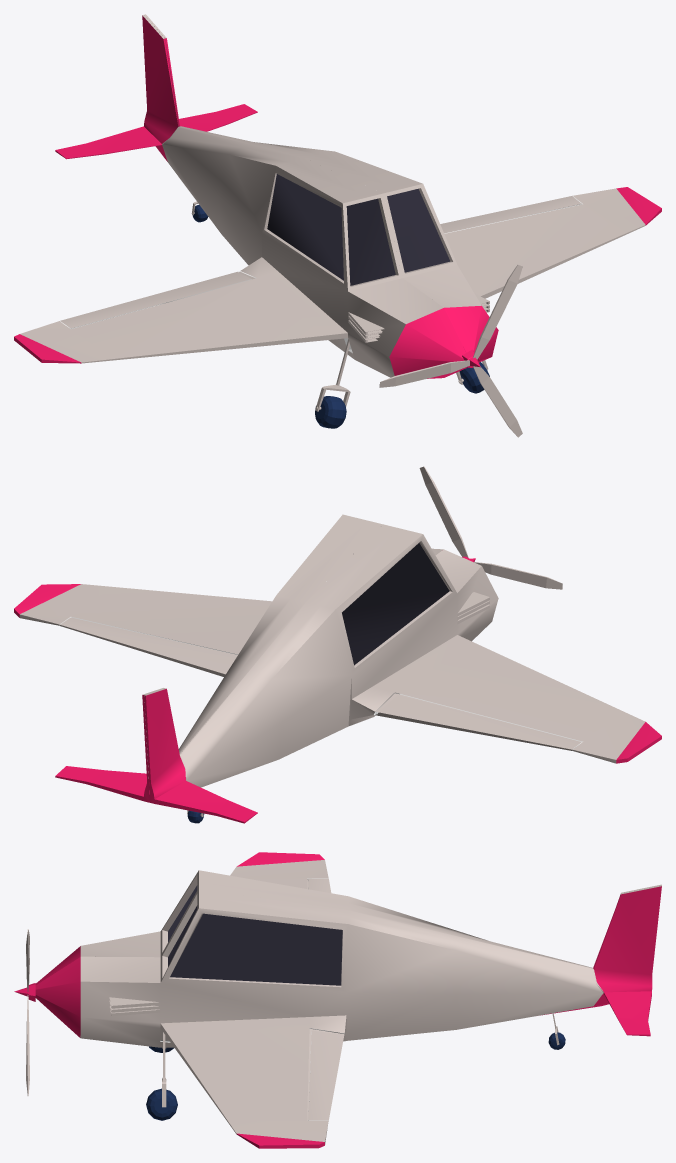
File: lowPolyPlane.glb
3 views of the same model, one above another, from view 1: azimuth 30°, elevation 25°; view 2: azimuth 150°, elevation 25°; view 3: azimuth 270°, elevation 25° (orthographic). The views are drawn at different scales.
Parts seen in each view (by area): view 1: Cube_1_3, Propeller_1, Wheel_4; view 2: Cube_1_3, Propeller_1; view 3: Cube_1_3, Propeller_1, Wheel_2.
Part boxes in pixels (bbox=[...]): Cube_1_3: bbox=[14, 14, 661, 378]; Propeller_1: bbox=[379, 264, 522, 437]; Wheel_4: bbox=[315, 396, 346, 428]; Cube_1_3: bbox=[14, 514, 661, 823]; Propeller_1: bbox=[419, 466, 562, 589]; Cube_1_3: bbox=[35, 852, 661, 1148]; Propeller_1: bbox=[14, 929, 35, 1095]; Wheel_2: bbox=[146, 1088, 177, 1120].
Bounding box in the file's own units: 0.2261 × 0.0721 × 0.2111.
